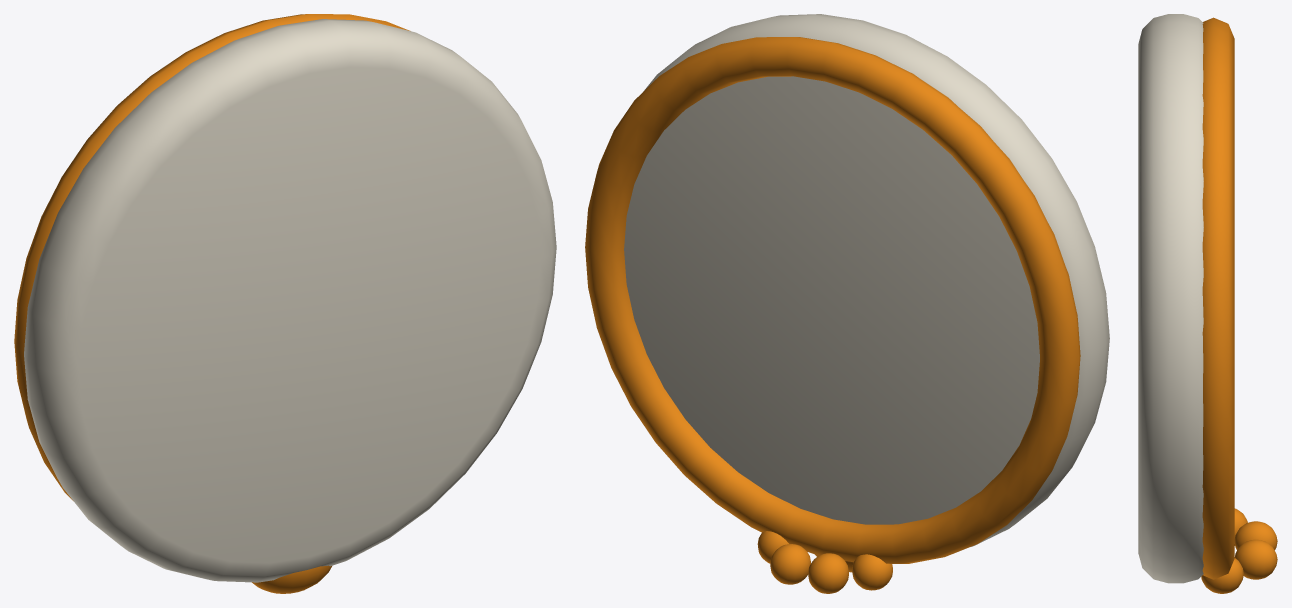
The model's file is FeatherToy_Premium.fbx.
3 renders of one model, left to right at view 1: azimuth 30°, elevation 25°; view 2: azimuth 150°, elevation 25°; view 3: azimuth 270°, elevation 25°, orthographic. The views are drawn at different scales.
Visible parts, largest first — view 1: FeatherToy_Body; view 2: FeatherToy_Body; view 3: FeatherToy_Body.
Part boxes in pixels (x1,y1,x2,y2): FeatherToy_Body: (14,14,556,593); FeatherToy_Body: (585,14,1109,593); FeatherToy_Body: (1138,14,1277,593).
Bounding box in the file's own units: 0.38 × 0.394 × 0.0926.
